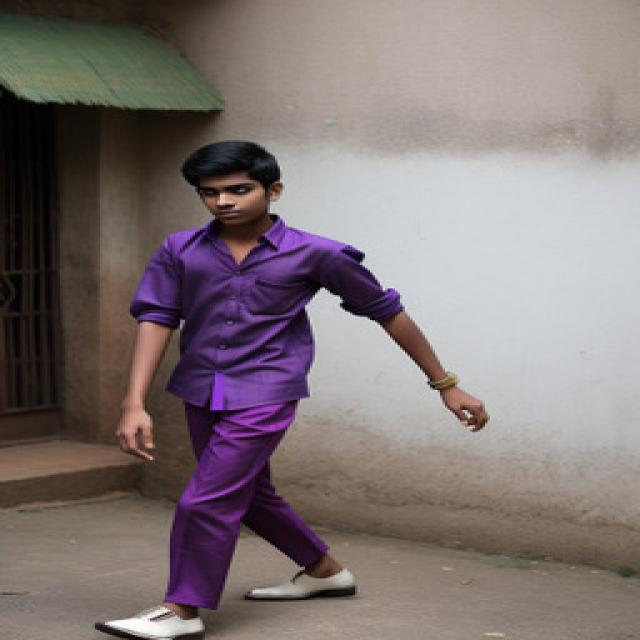Ai human 2: (91, 123, 491, 640)
